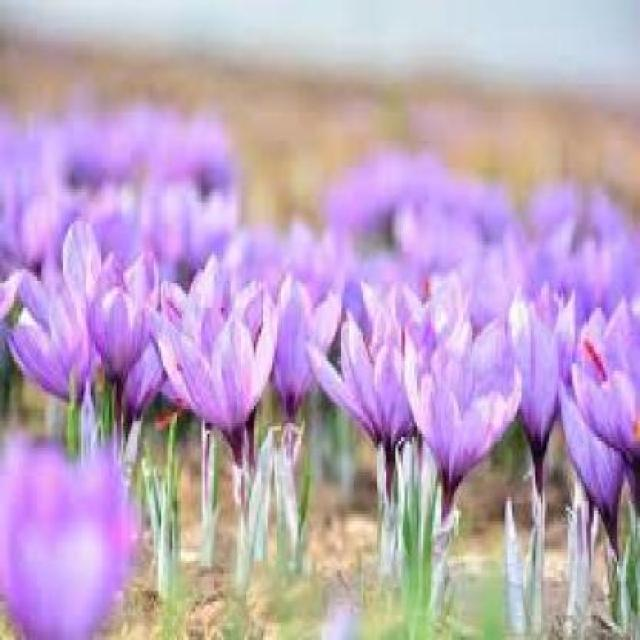Flower: (152, 296, 278, 446), (399, 354, 526, 492), (310, 319, 430, 458), (506, 280, 588, 462), (250, 278, 344, 416)
